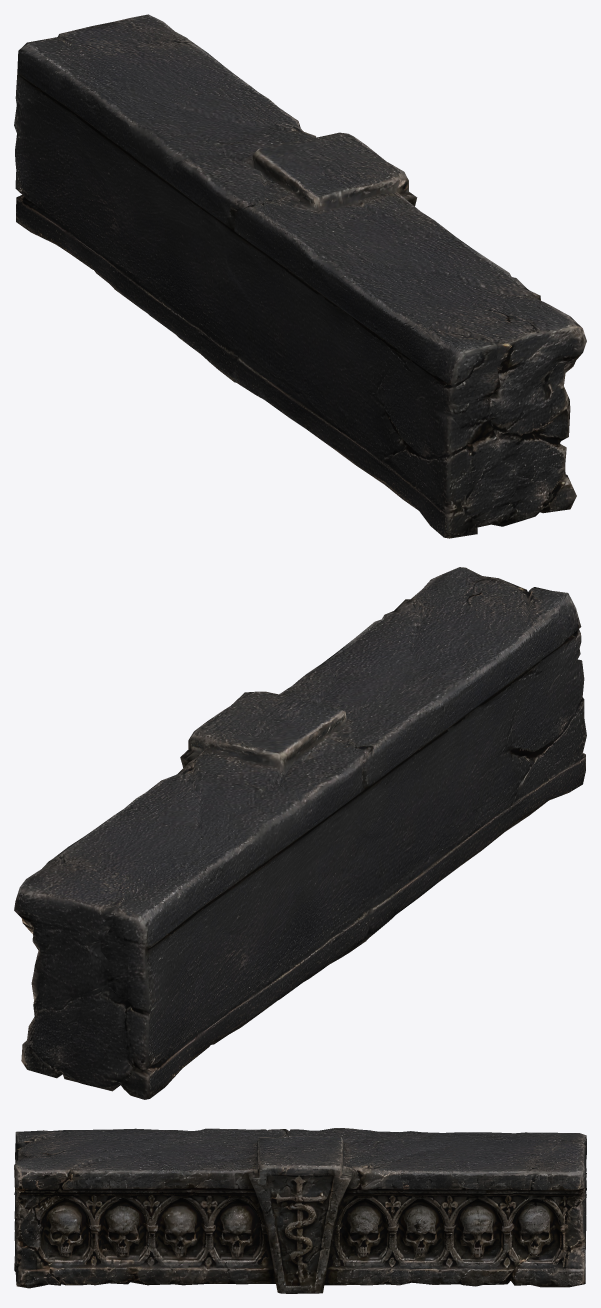
Rendered from raw_lintel.glb.
The picture shows the model from 3 angles, top to bottom: view 1: azimuth 30°, elevation 25°; view 2: azimuth 150°, elevation 25°; view 3: azimuth 270°, elevation 25°; orthographic projection. The views are drawn at different scales.
Visible parts, largest first — view 1: tripo_node_341aaab0-d250-40ca-817d-25a9b6383b3e; view 2: tripo_node_341aaab0-d250-40ca-817d-25a9b6383b3e; view 3: tripo_node_341aaab0-d250-40ca-817d-25a9b6383b3e.
Part boxes in pixels (left/top/right/bottom): tripo_node_341aaab0-d250-40ca-817d-25a9b6383b3e: left=14, top=14, right=586, bottom=538; tripo_node_341aaab0-d250-40ca-817d-25a9b6383b3e: left=14, top=567, right=586, bottom=1099; tripo_node_341aaab0-d250-40ca-817d-25a9b6383b3e: left=14, top=1128, right=586, bottom=1293.
Bounding box in the file's own units: 0.2001 × 0.2501 × 1.
1 material, 1 textured.
